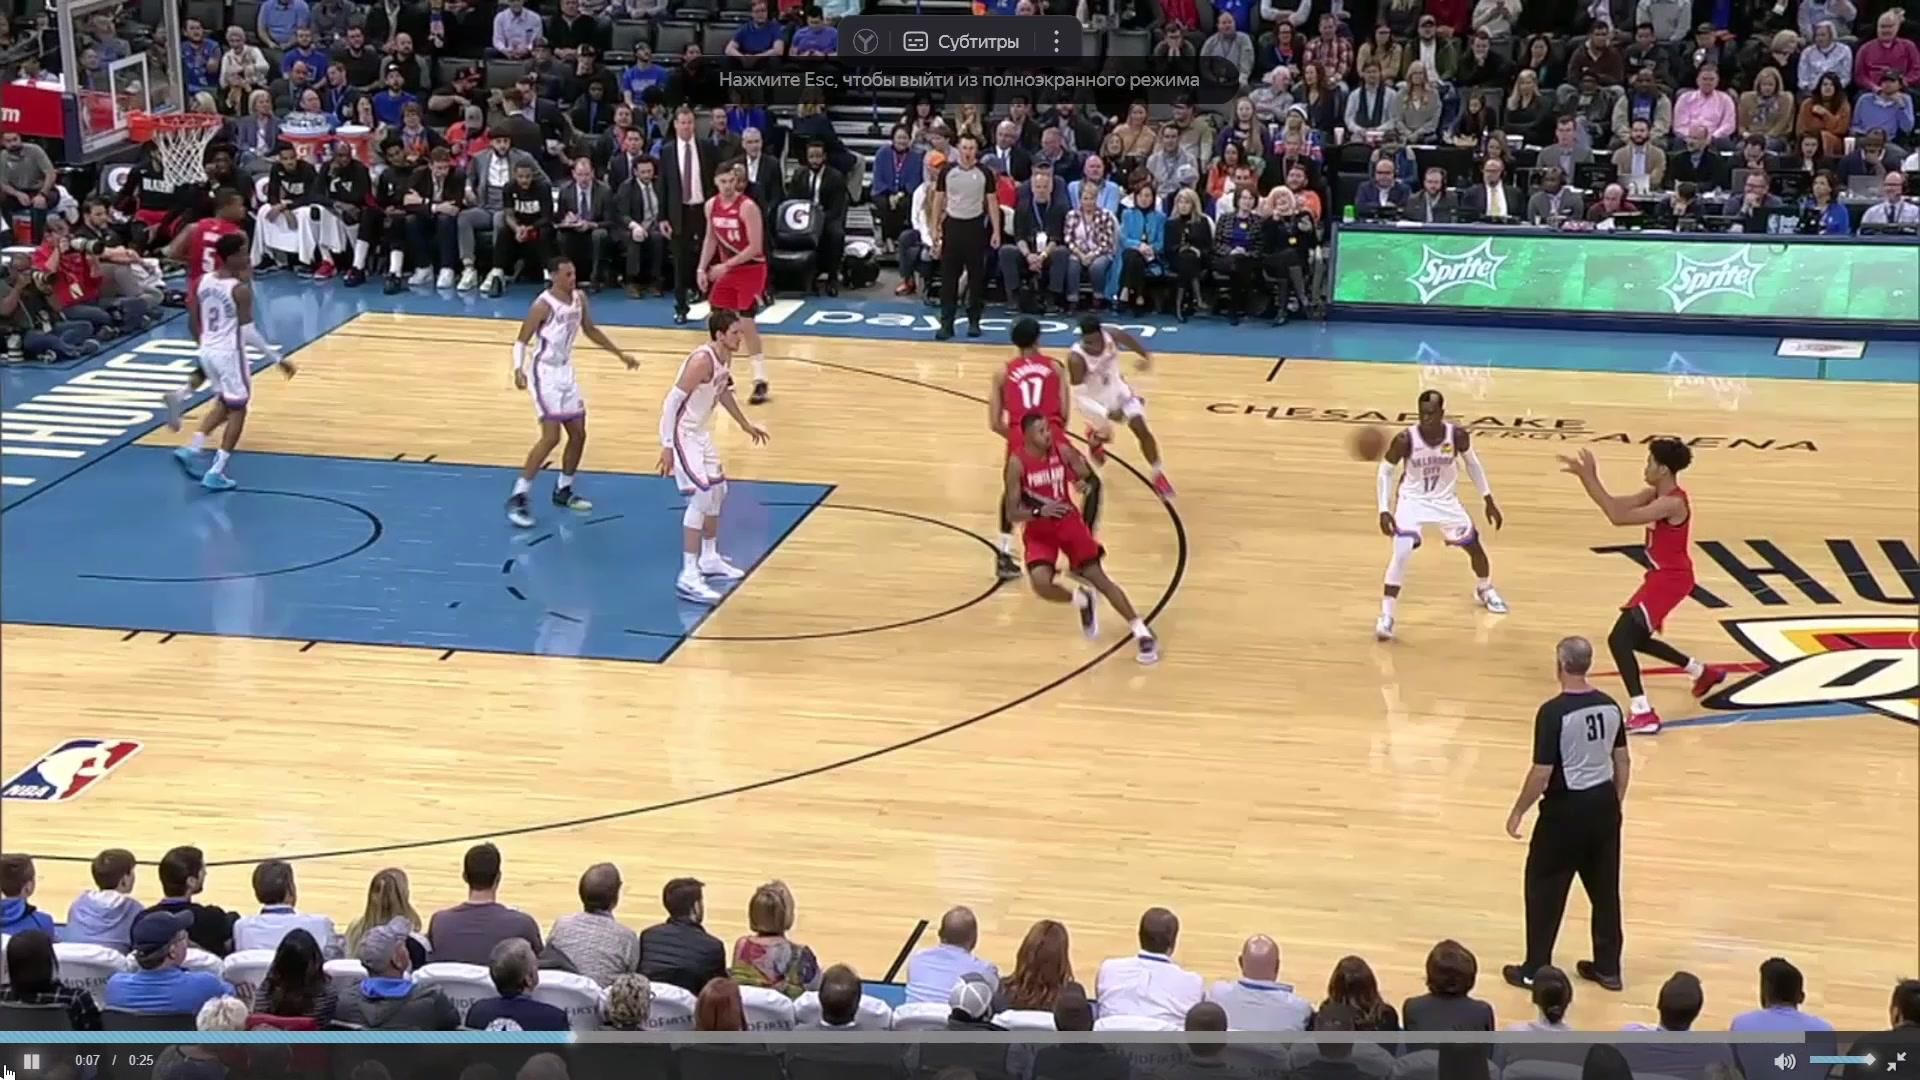no_foul: (989, 311, 1200, 531)
